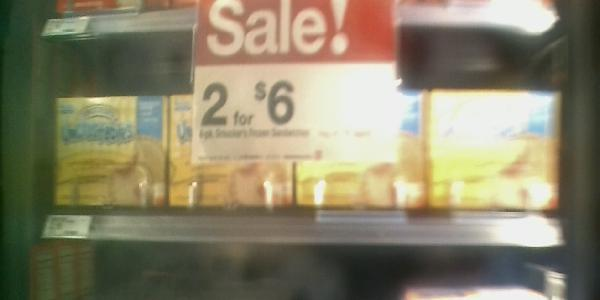icecream: (425, 87, 561, 216), (290, 89, 426, 214), (171, 94, 296, 215), (49, 95, 169, 213)
